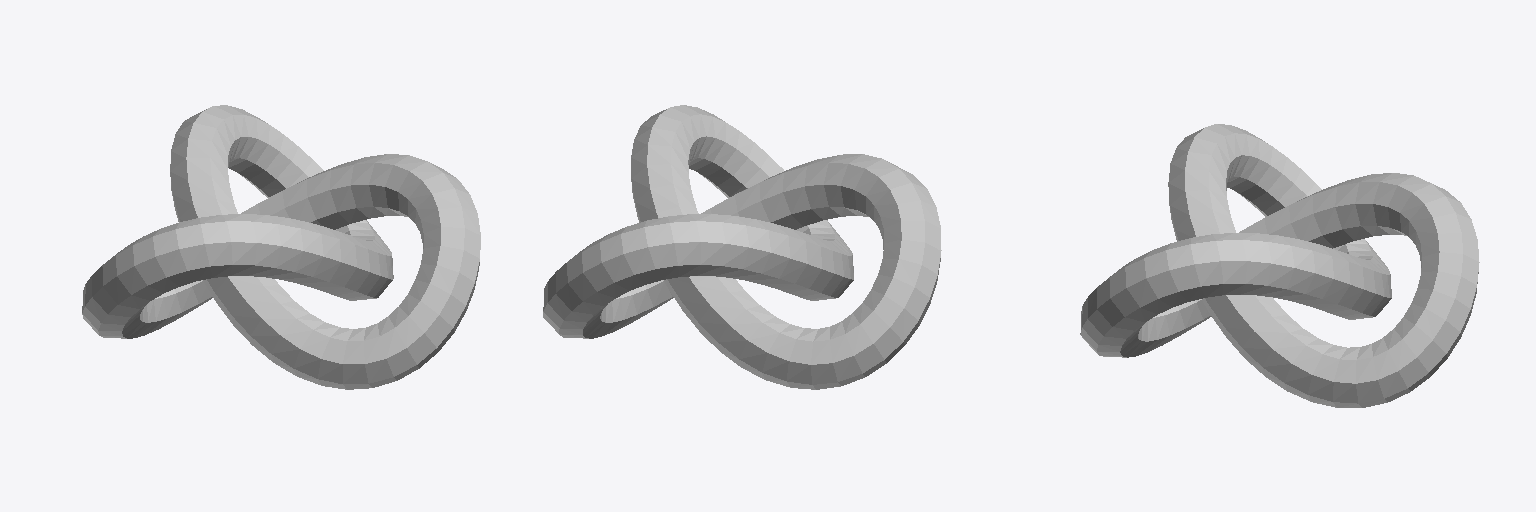
The picture shows the model from 3 angles: view 1: azimuth 30°, elevation 25°; view 2: azimuth 150°, elevation 25°; view 3: azimuth 270°, elevation 25°; orthographic projection.
Parts seen in each view (by area): view 1: Torus_Torus_Knot; view 2: Torus_Torus_Knot; view 3: Torus_Torus_Knot.
Part boxes in pixels (left/top/right/bottom): Torus_Torus_Knot: left=82, top=105, right=480, bottom=389; Torus_Torus_Knot: left=543, top=105, right=941, bottom=389; Torus_Torus_Knot: left=1080, top=124, right=1479, bottom=407.
Bounding box in the file's own units: 36.34 × 17.82 × 38.51.